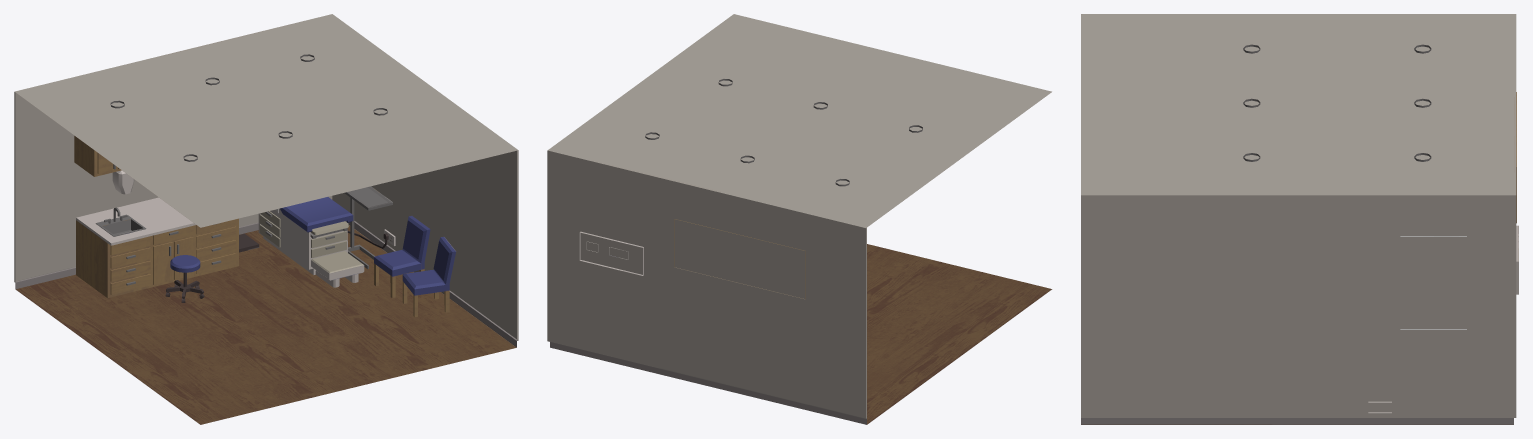
The model's file is DoctorsOffice2.fbx.
3 renders of one model, left to right at view 1: azimuth 30°, elevation 25°; view 2: azimuth 150°, elevation 25°; view 3: azimuth 270°, elevation 25°, orthographic. The views are drawn at different scales.
Parts seen in each view (by area): view 1: DoctorsOffice, Counter, Bed, Chair, Chair2, Table, Cupboards, Stool; view 2: DoctorsOffice; view 3: DoctorsOffice, Lights.
Boxes of the visible parts, x1,y1,x2,y2 form: DoctorsOffice: [14, 14, 518, 424]; Counter: [76, 197, 238, 298]; Bed: [258, 197, 364, 287]; Chair: [374, 216, 430, 298]; Chair2: [402, 236, 456, 317]; Table: [344, 186, 392, 268]; Cupboards: [74, 136, 121, 176]; Stool: [165, 255, 204, 302]; DoctorsOffice: [547, 14, 1052, 424]; DoctorsOffice: [1081, 14, 1518, 424]; Lights: [1243, 44, 1431, 161].
Size of the model in its own units: 202 by 121 by 205.
